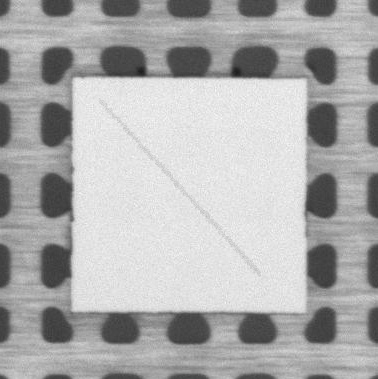DIE_CRACK: (100, 100, 259, 275)
